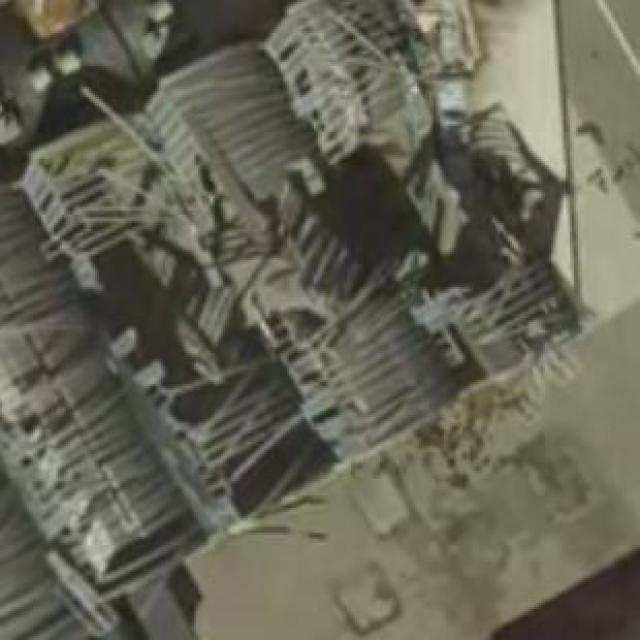collapsed_building: (2, 0, 605, 559)
